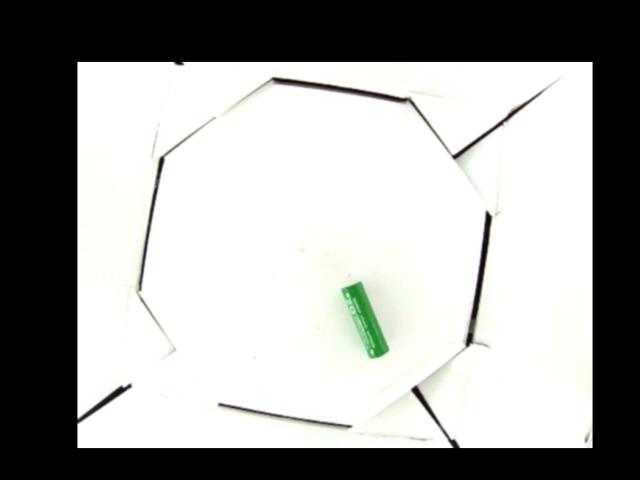Battery: (339, 282, 391, 358)
